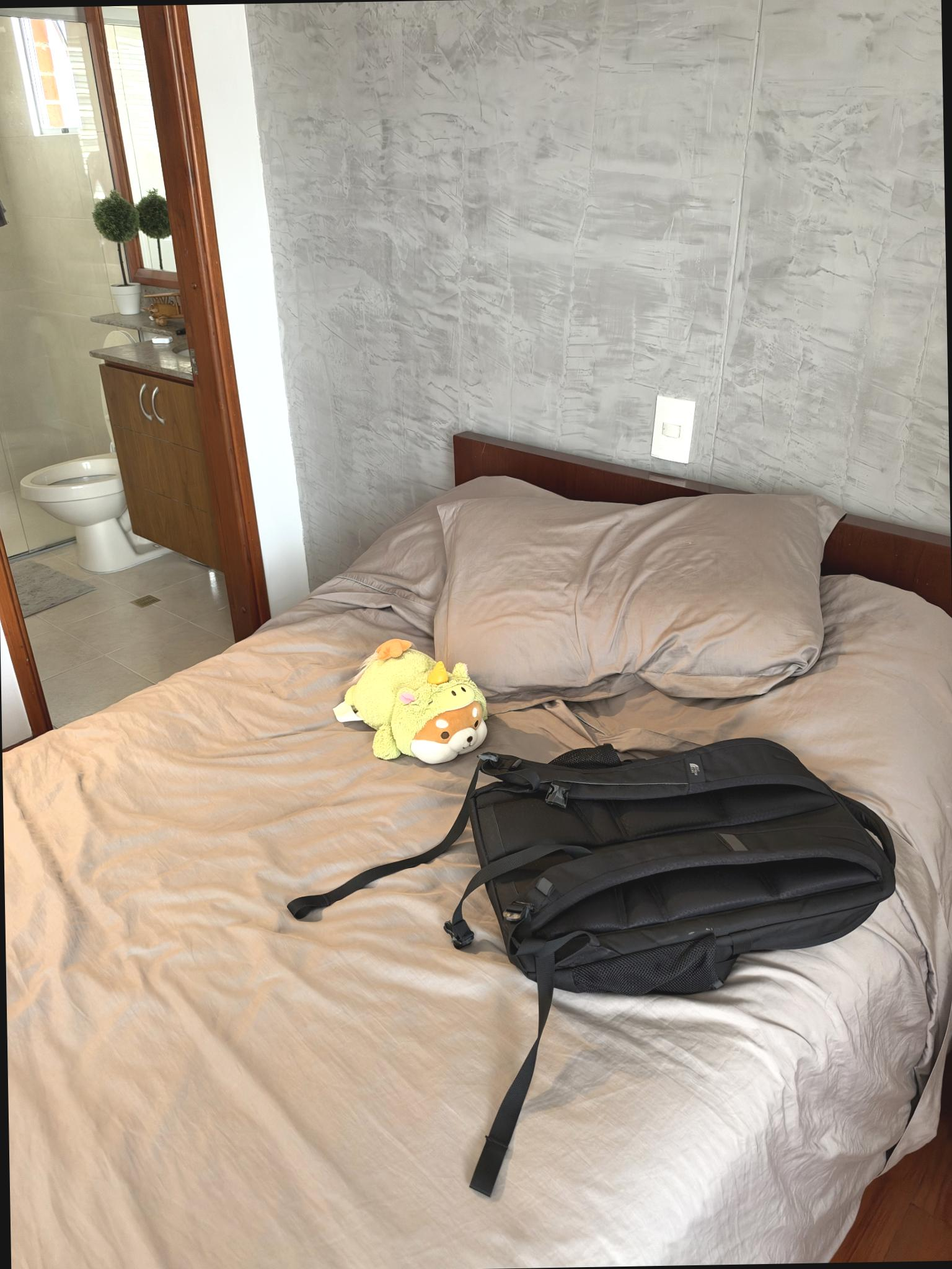peluche_martin: (343, 637, 489, 766)
